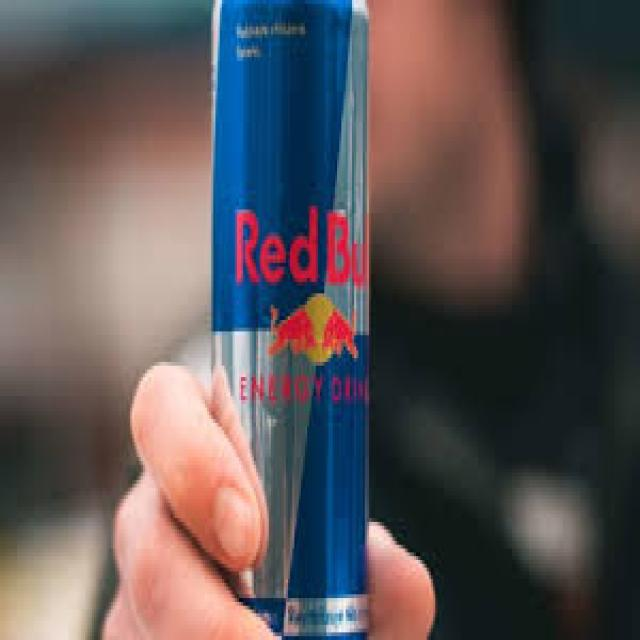red-bull: (207, 0, 369, 632)
